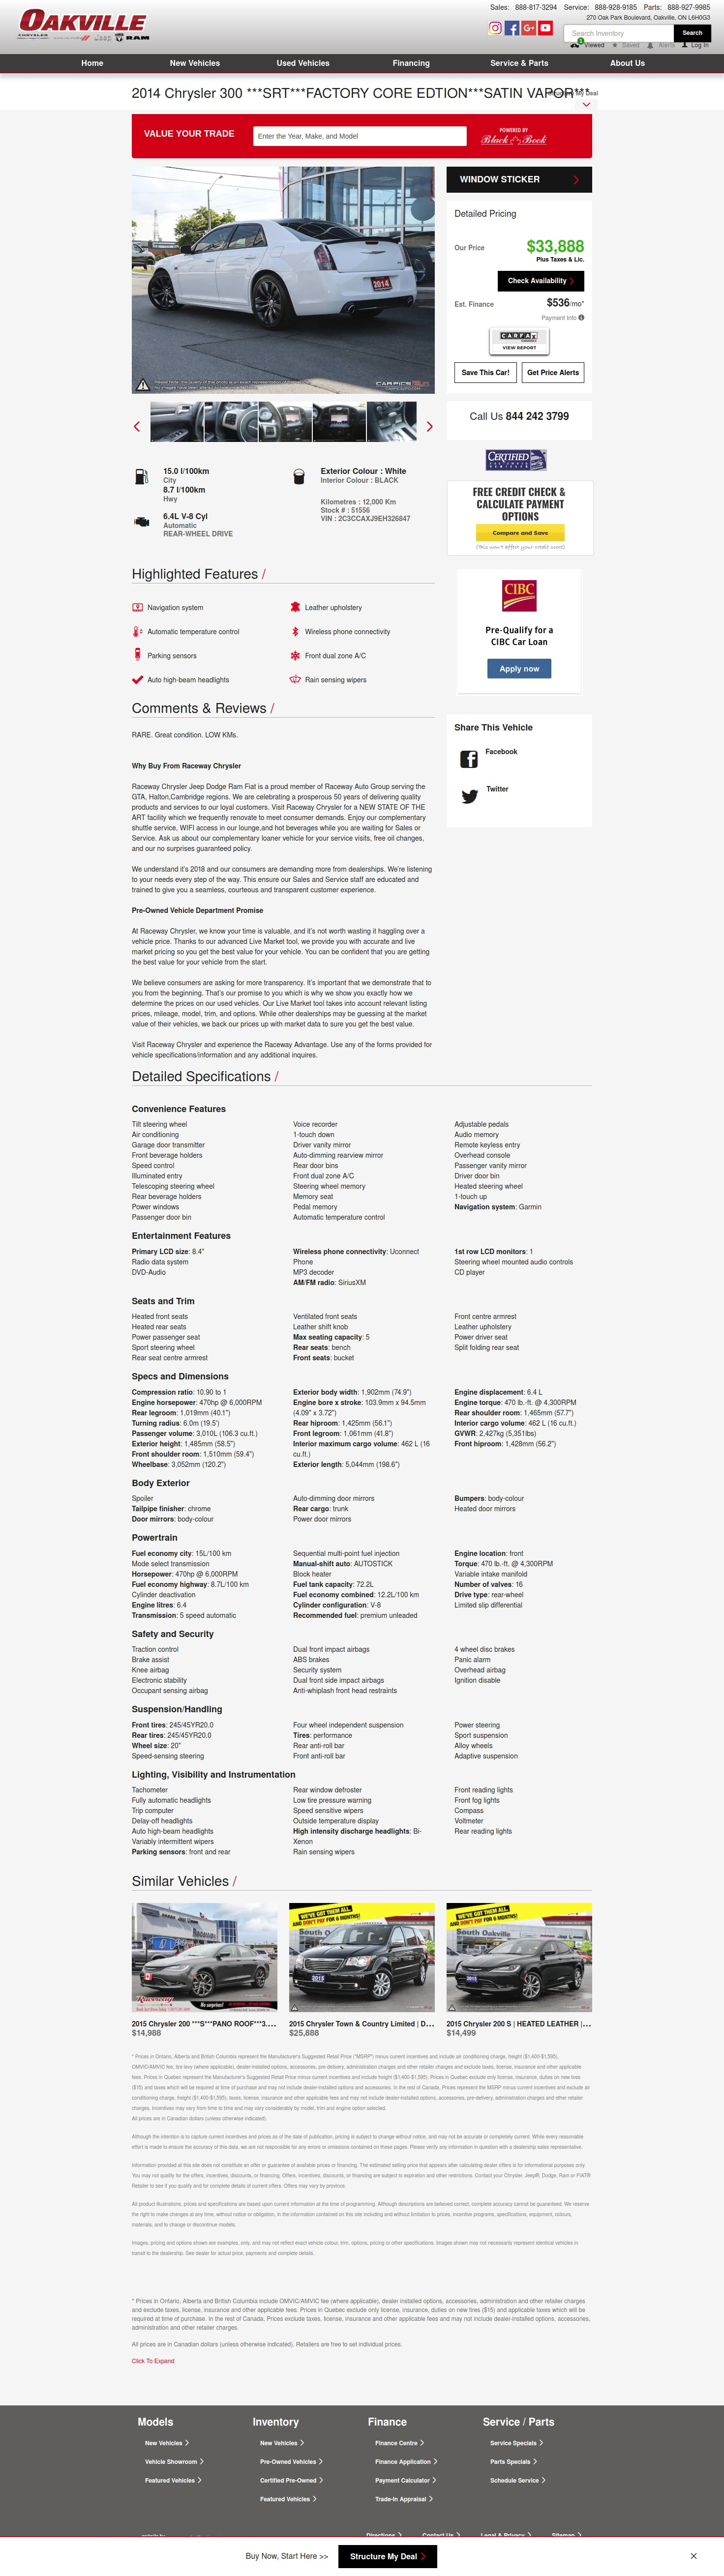car: (426, 421, 434, 434)
